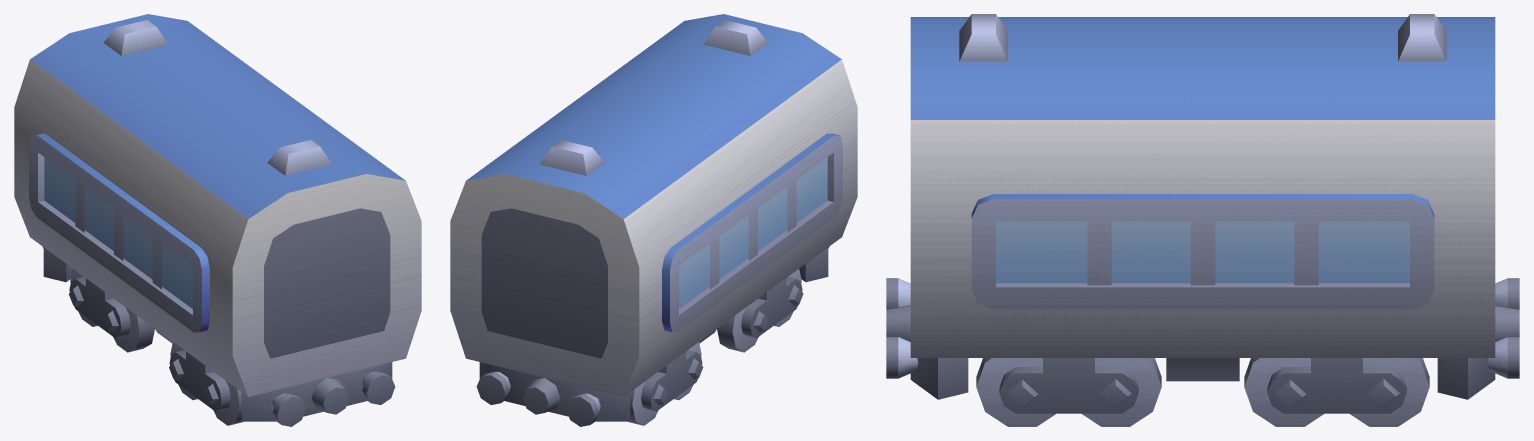
Rendered from train_electric_bullet_c.glb.
The picture shows the model from 3 angles, left to right: view 1: azimuth 30°, elevation 25°; view 2: azimuth 150°, elevation 25°; view 3: azimuth 270°, elevation 25°; orthographic projection. The views are drawn at different scales.
Visible parts, largest first — view 1: train-electric-bullet-c, wheels-back, wheels-front; view 2: train-electric-bullet-c, wheels-front, wheels-back; view 3: train-electric-bullet-c, wheels-front, wheels-back.
Boxes of the visible parts, box(x1,y1,x2,y2) form: train-electric-bullet-c: box(14, 14, 421, 426); wheels-back: box(69, 269, 154, 352); wheels-front: box(169, 342, 243, 425); train-electric-bullet-c: box(450, 14, 857, 426); wheels-front: box(717, 269, 803, 352); wheels-back: box(628, 342, 703, 425); train-electric-bullet-c: box(886, 14, 1519, 399); wheels-front: box(976, 358, 1161, 426); wheels-back: box(1244, 358, 1429, 426).
Size of the model in its own units: 1.3 by 1.64 by 2.6.
Materials: 1 (1 with a texture image).
